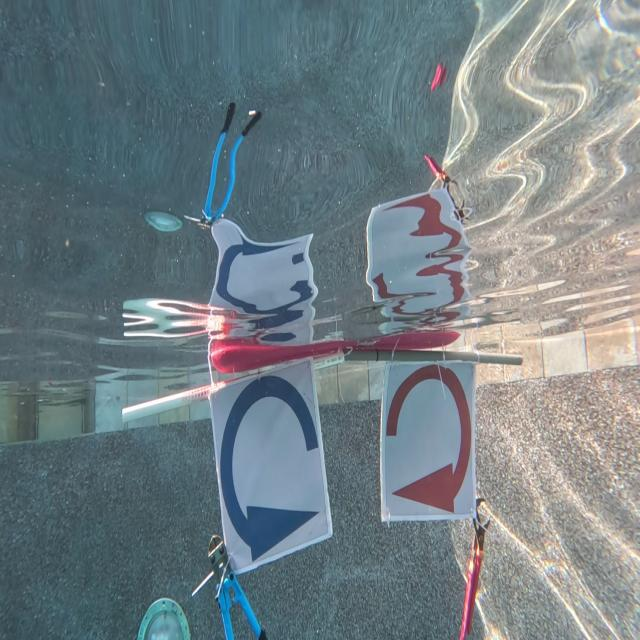blue_side: (212, 375, 326, 551)
red_side: (386, 366, 474, 511)
